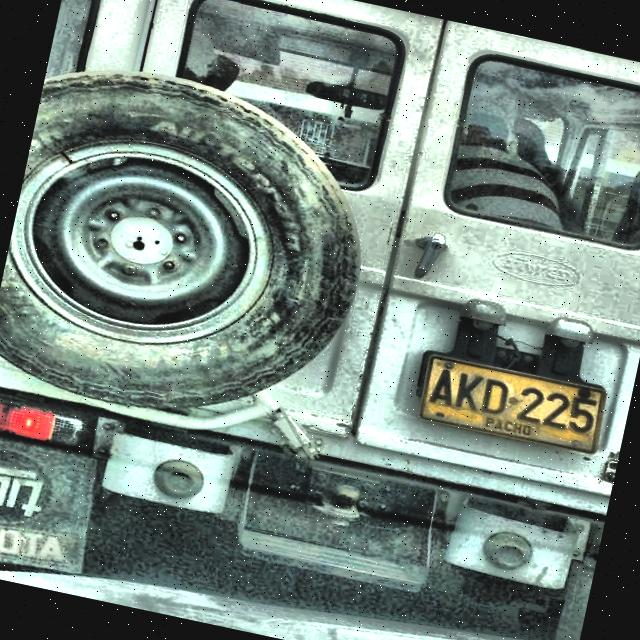2: (513, 382, 546, 425), (540, 388, 571, 433)
5: (567, 395, 599, 437)
A: (426, 366, 455, 410)
D: (477, 376, 510, 418)
K: (453, 371, 487, 417)
